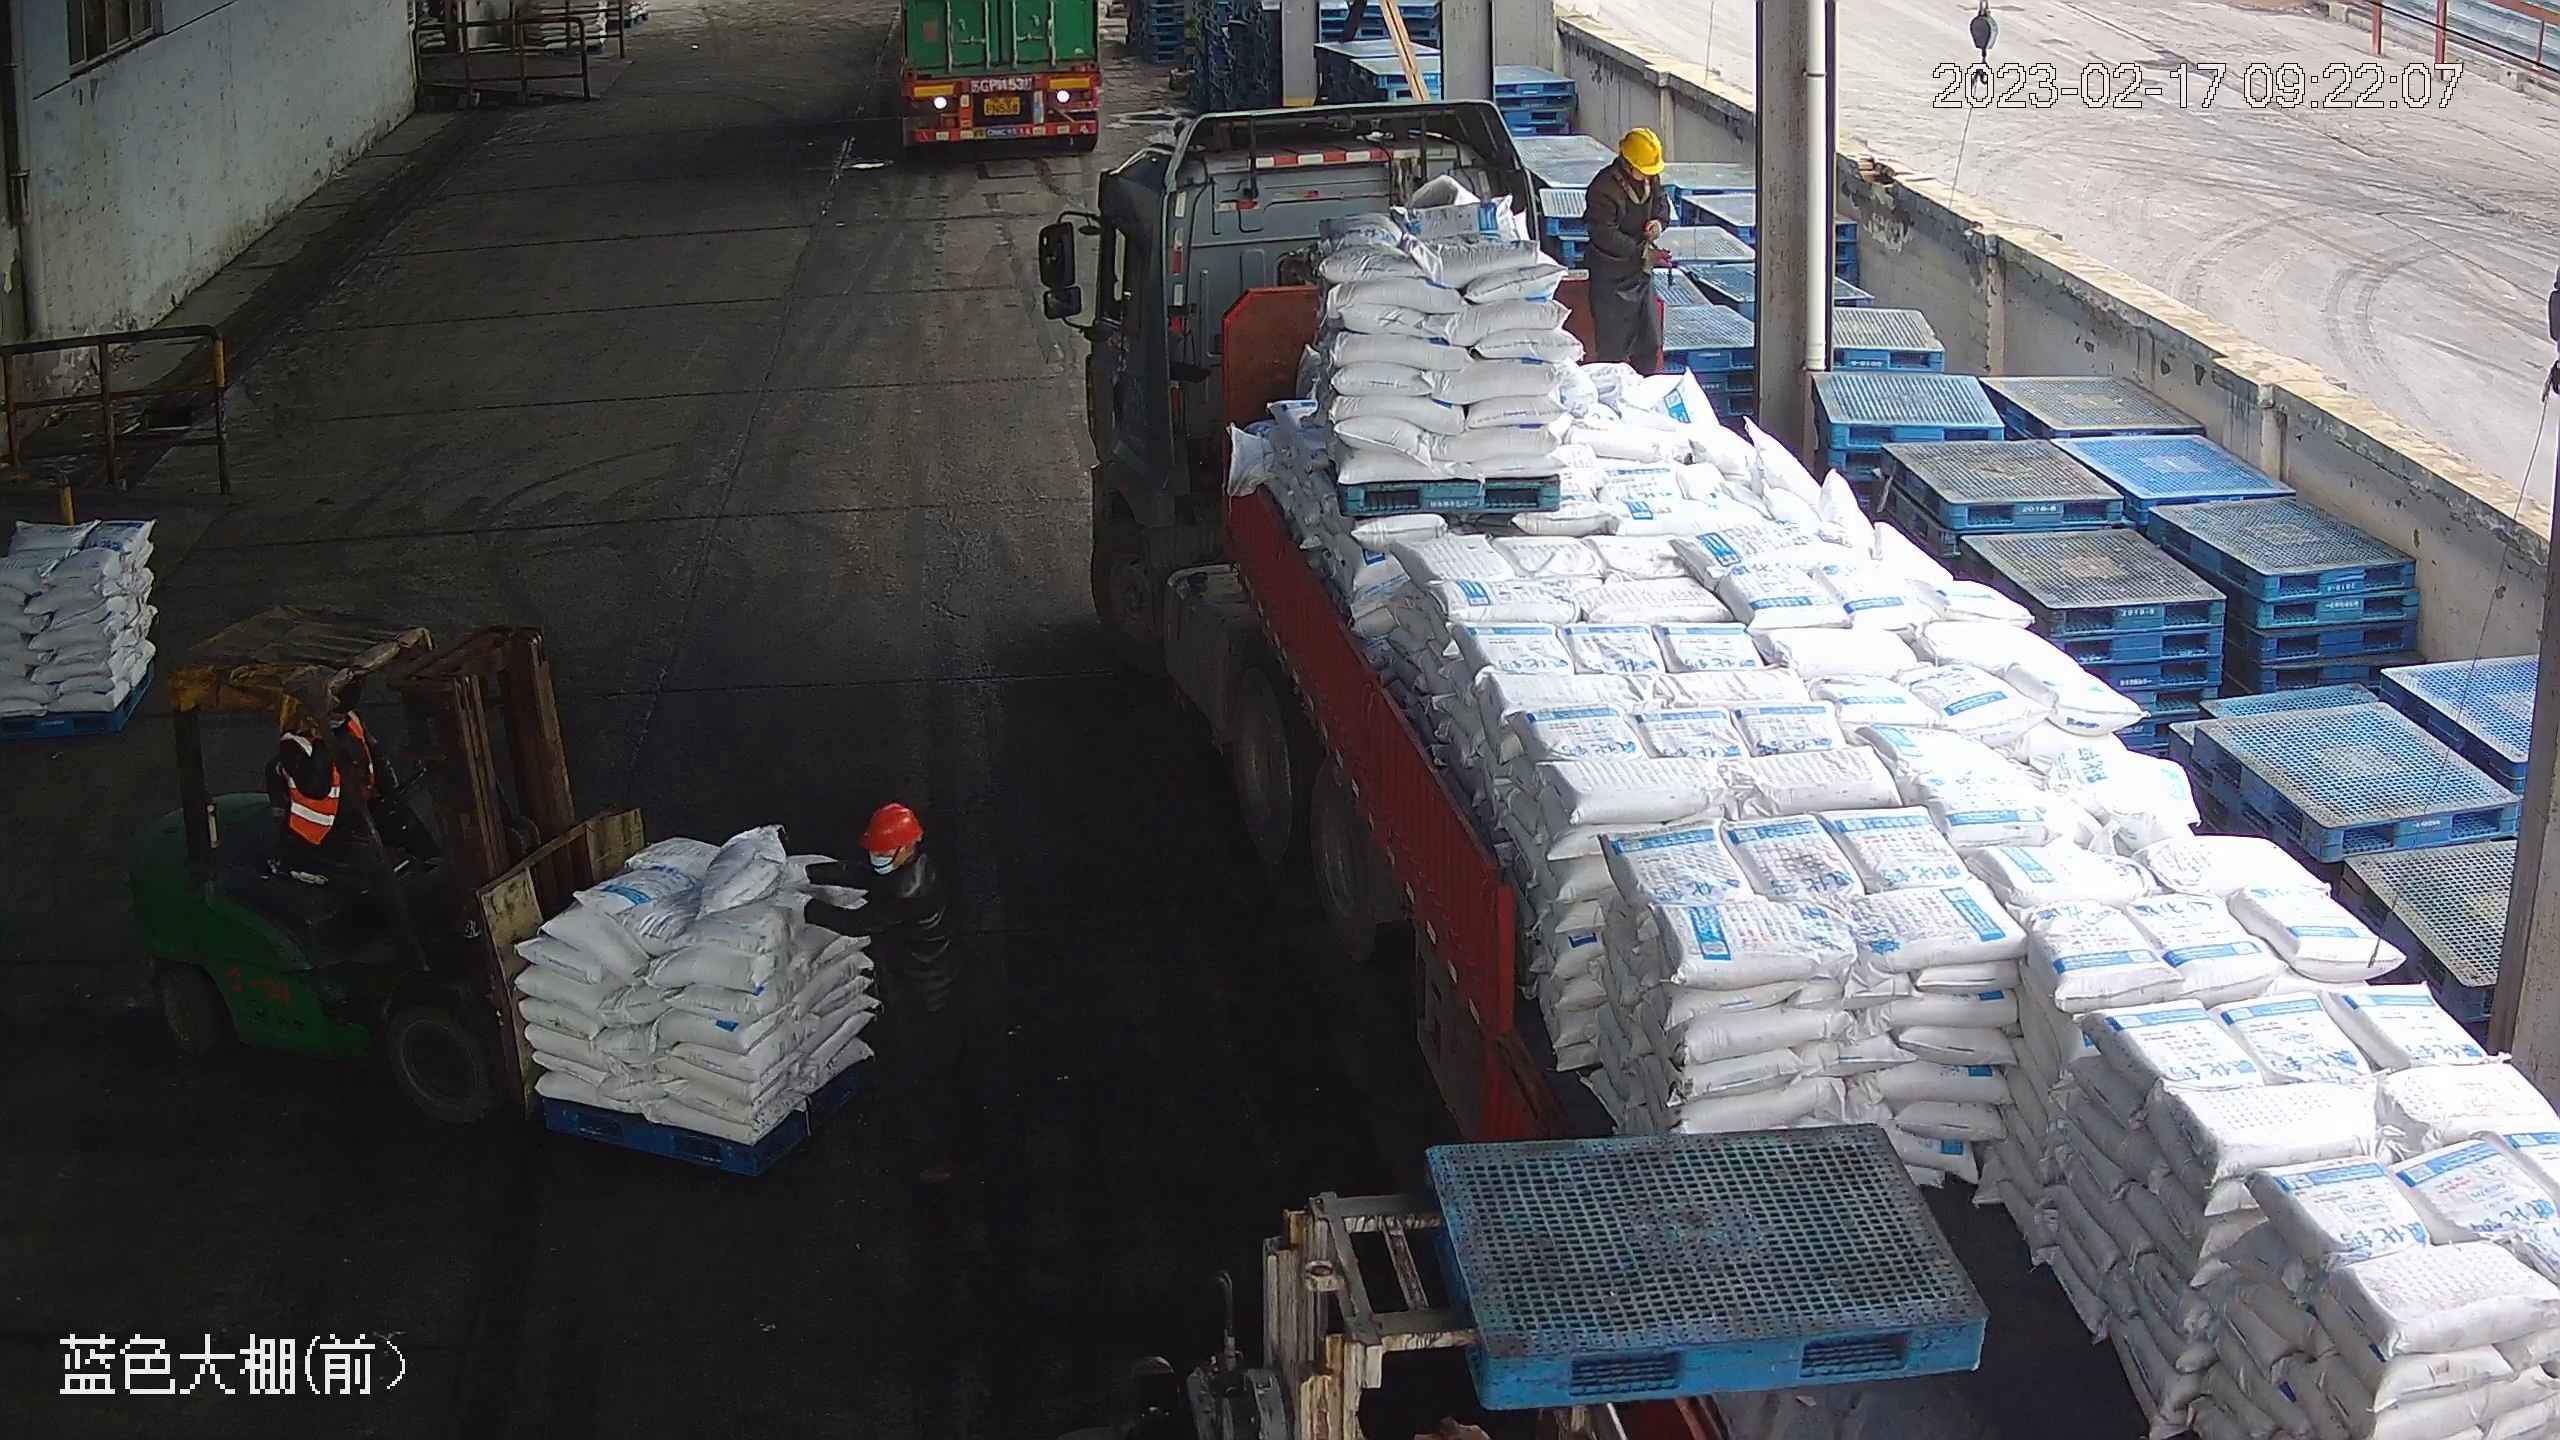belt: (1605, 170, 1656, 207)
head: (852, 798, 948, 919), (1585, 125, 1668, 210)
helmet: (858, 801, 922, 851), (1617, 125, 1665, 176)
people: (851, 799, 981, 1179), (1579, 125, 1677, 379)
truck: (1087, 99, 2560, 1440)
